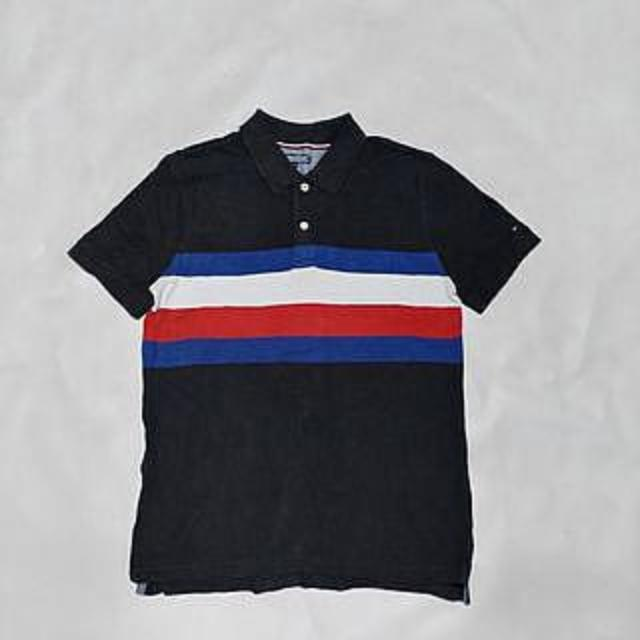T_SHIRT: (64, 100, 543, 611)
